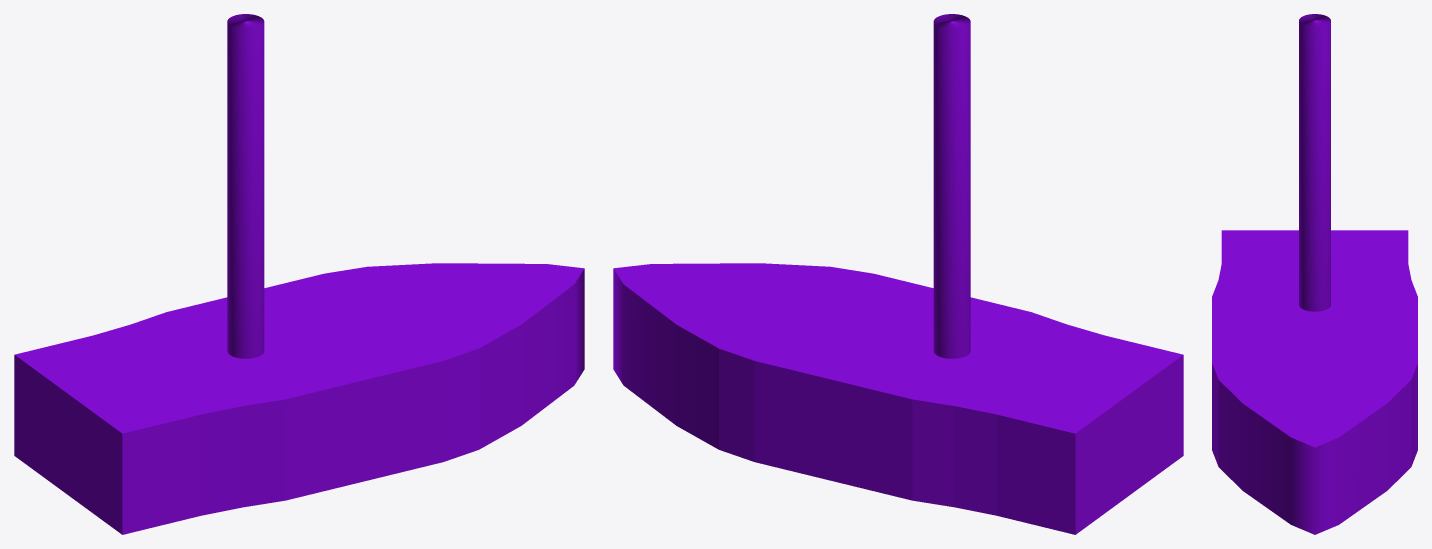
Rendered from boat.dae.
The picture shows the model from 3 angles, left to right: view 1: azimuth 30°, elevation 25°; view 2: azimuth 150°, elevation 25°; view 3: azimuth 270°, elevation 25°; orthographic projection. The views are drawn at different scales.
Parts seen in each view (by area): view 1: Cube, Cylinder; view 2: Cube, Cylinder; view 3: Cube, Cylinder.
Part boxes in pixels (bbox=[...]): Cube: bbox=[14, 263, 584, 534]; Cylinder: bbox=[227, 14, 264, 358]; Cube: bbox=[613, 263, 1183, 534]; Cylinder: bbox=[933, 14, 970, 358]; Cube: bbox=[1212, 230, 1417, 534]; Cylinder: bbox=[1299, 14, 1330, 311].
Size of the model in its own units: 1.6 by 0.64 by 1.27.
